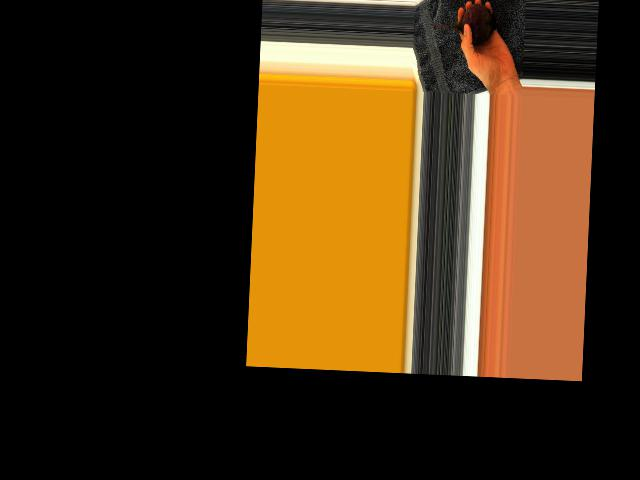beet: (429, 1, 497, 44)
